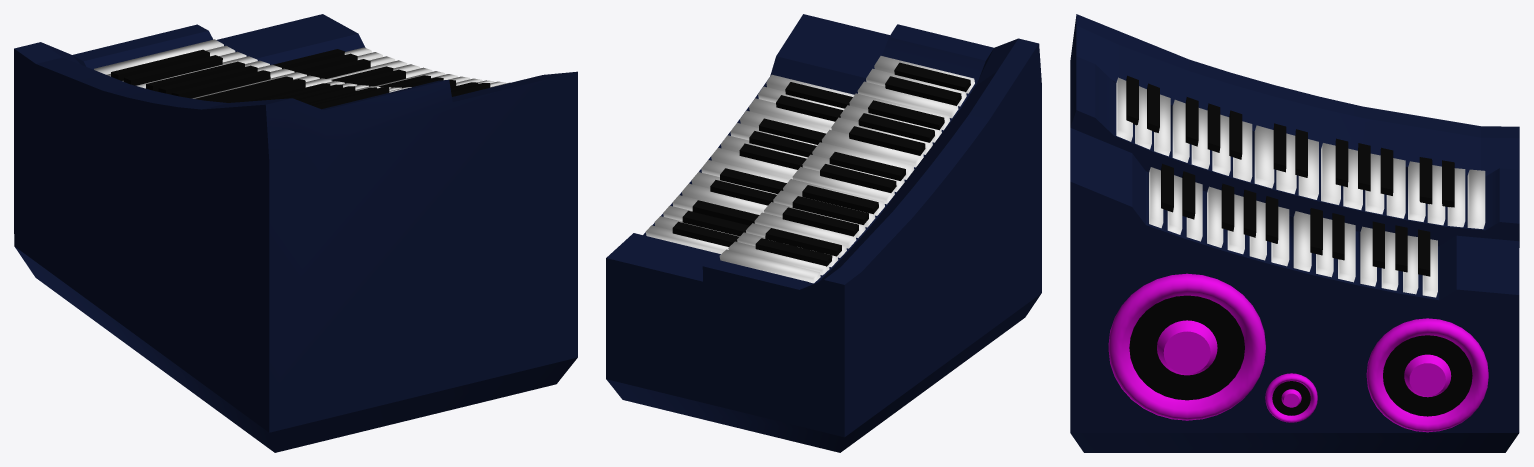
The model's file is synthCool.glb.
3 views of the same model, side by side, from view 1: azimuth 30°, elevation 25°; view 2: azimuth 150°, elevation 25°; view 3: azimuth 270°, elevation 25° (orthographic). The views are drawn at different scales.
Visible parts, largest first — view 1: Cube.026; view 2: Cube.026; view 3: Cube.026.
Part boxes in pixels (box(x1,y1,x2,y2)): Cube.026: box(14, 14, 577, 452); Cube.026: box(606, 14, 1041, 452); Cube.026: box(1070, 14, 1519, 452).
Size of the model in its own units: 1.57 by 1.6 by 2.09.
